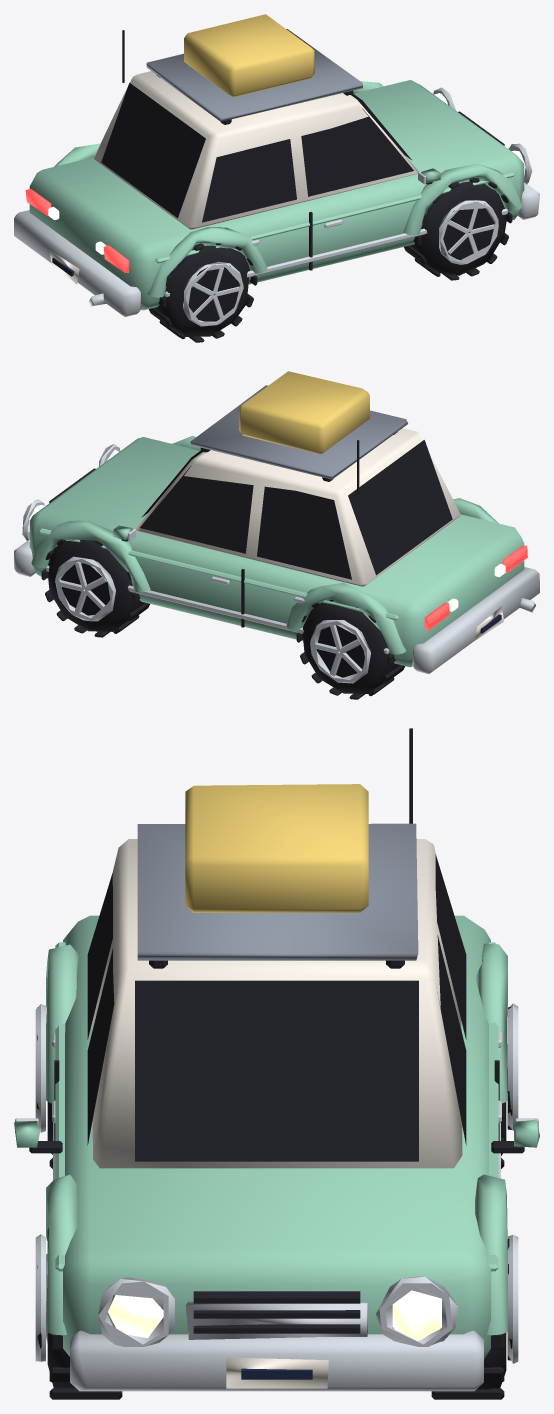
The model's file is car_b.glb.
The picture shows the model from 3 angles, top to bottom: view 1: azimuth 30°, elevation 25°; view 2: azimuth 150°, elevation 25°; view 3: azimuth 270°, elevation 25°; orthographic projection. The views are drawn at different scales.
Visible parts, largest first — view 1: car_b; view 2: car_b; view 3: car_b.
Boxes of the visible parts, x1,y1,x2,y2 form: car_b: [14, 14, 539, 342]; car_b: [14, 371, 539, 699]; car_b: [14, 728, 539, 1399].
Bounding box in the file's own units: 3.94 × 2.04 × 2.22.
1 material, 1 textured.
